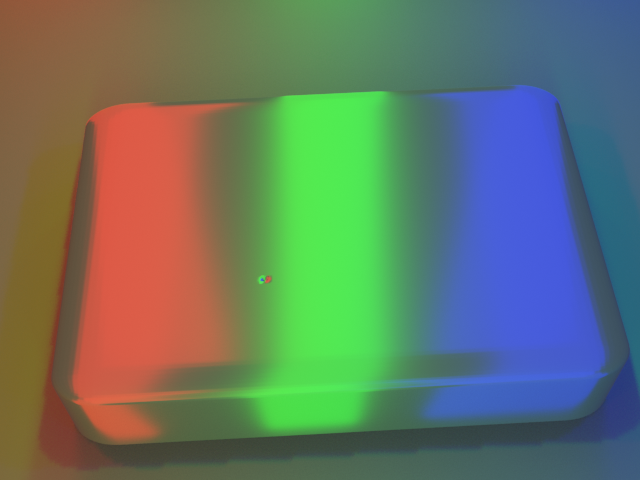dent: (244, 266, 275, 297)
